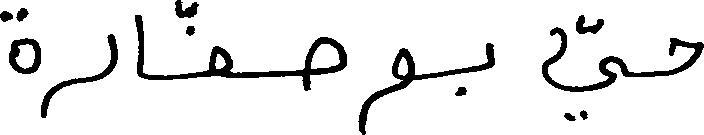X: (543, 10, 625, 125), (43, 29, 117, 122), (360, 43, 415, 134), (0, 3, 41, 121), (304, 32, 345, 95), (669, 33, 703, 79), (210, 41, 232, 82), (134, 10, 144, 83), (485, 38, 494, 74)
